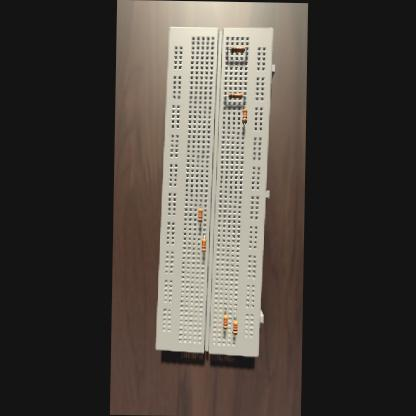breadboard: (154, 25, 275, 356)
resistor: (230, 46, 244, 52), (221, 313, 226, 328), (241, 107, 246, 122), (228, 92, 242, 97), (232, 319, 236, 334), (197, 207, 201, 221), (202, 237, 206, 251)
wire: (224, 94, 228, 99), (226, 48, 230, 53), (233, 312, 235, 318), (242, 94, 244, 99), (242, 122, 244, 127), (244, 48, 246, 53), (203, 233, 204, 237), (233, 334, 235, 336), (198, 221, 199, 224), (223, 328, 224, 330), (244, 106, 245, 107), (200, 205, 200, 207)
